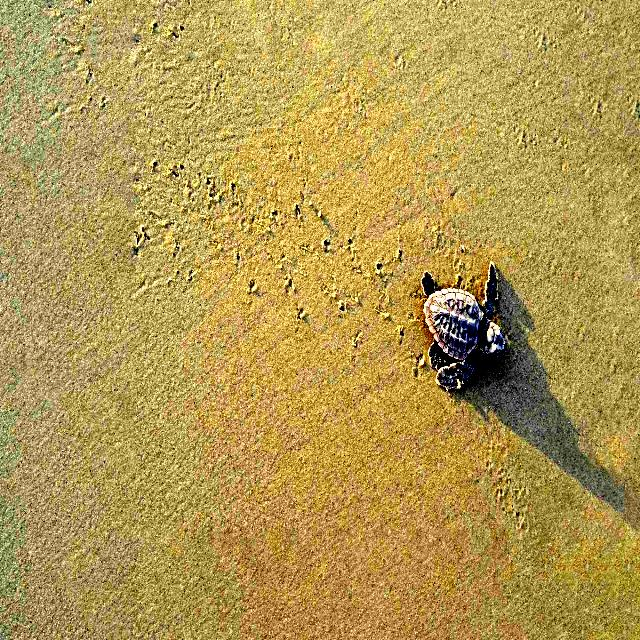Sea turtle: (410, 244, 523, 400)
